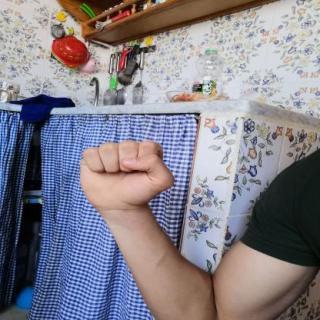SAD: (66, 132, 182, 216)
